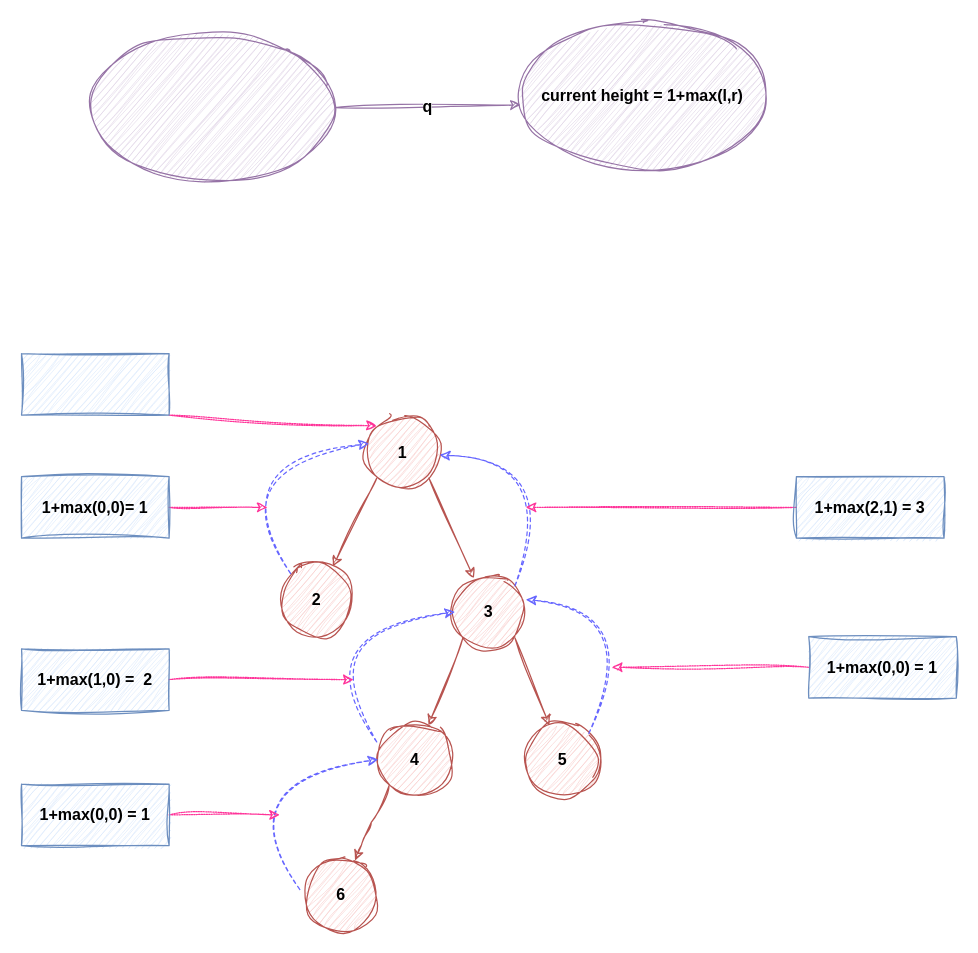
The diagram is 978 pixels wide and 953 high, and some of its shapes have lost their labels. The centre of each missing label's shape, as x and y in pixels:
"1+ max(1,3) = 4" goes at point (94, 383).
"we use recursive approach to find height" goes at point (211, 107).
